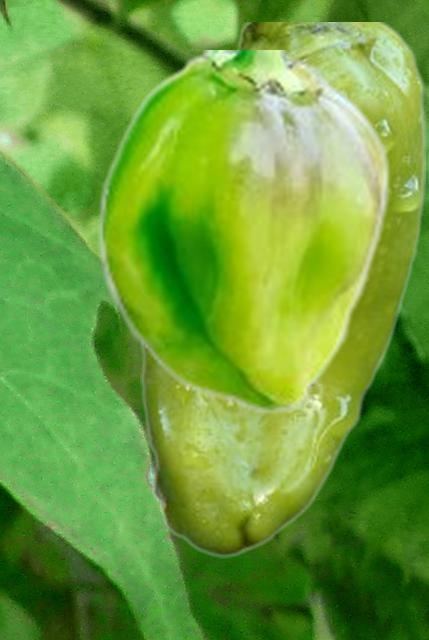green_chili: (140, 22, 424, 557), (97, 50, 391, 414)
